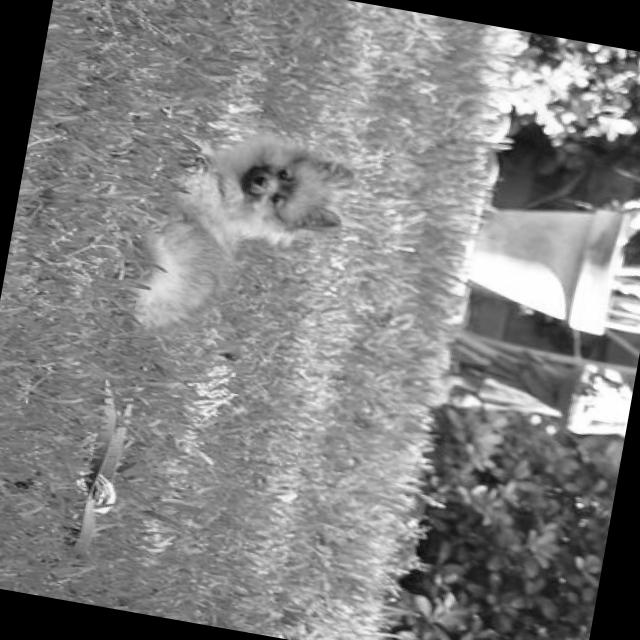laying down: (110, 110, 364, 390)
